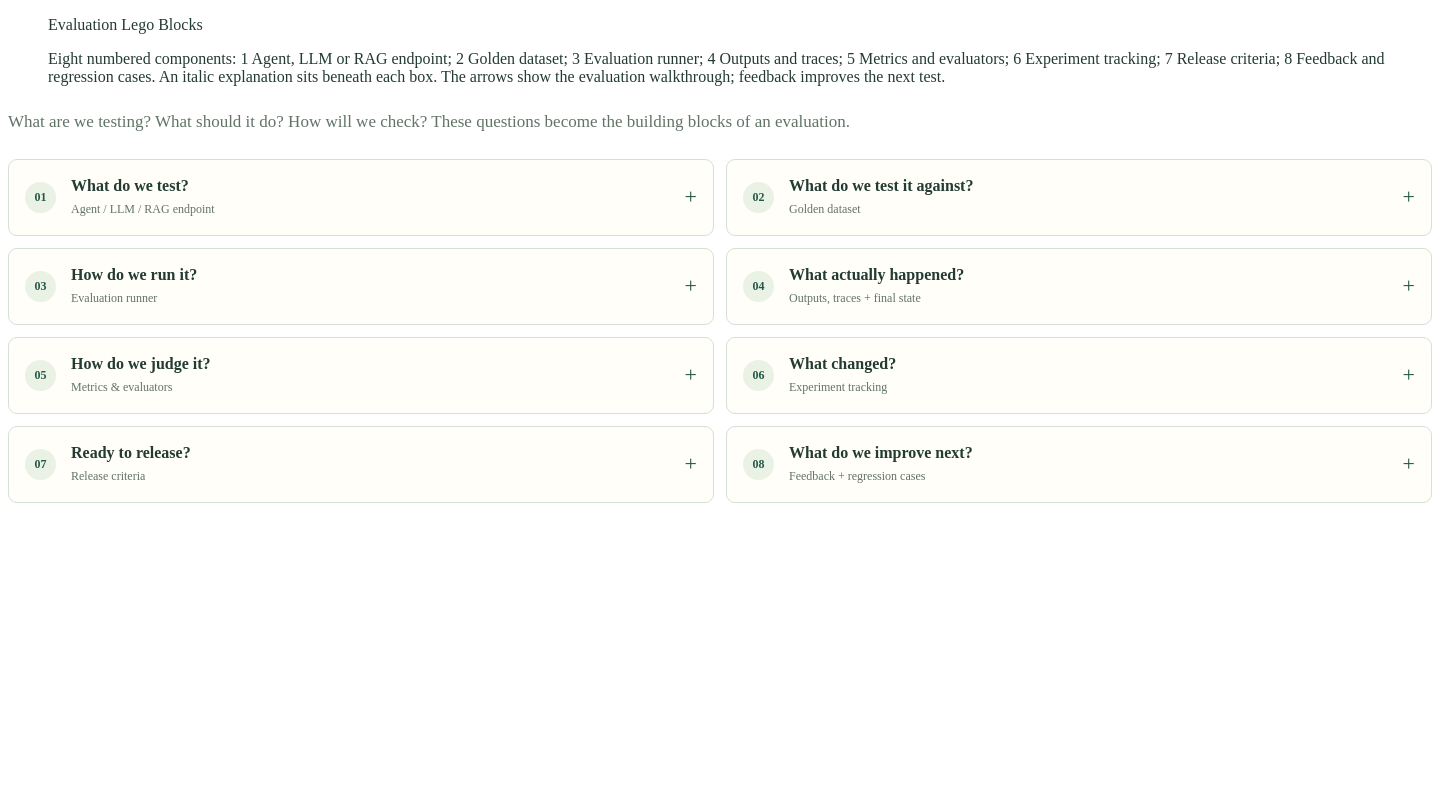
the Evaluation Lego Blocks reference › puts the visible component diagram before the introductory text and explanations
Expected: the text "Evaluation Lego Blocks" is shown, [48, 16, 203, 33]
Step 1. Click the text "What do we test?" → coordinates (130, 185), box [71, 177, 189, 194]
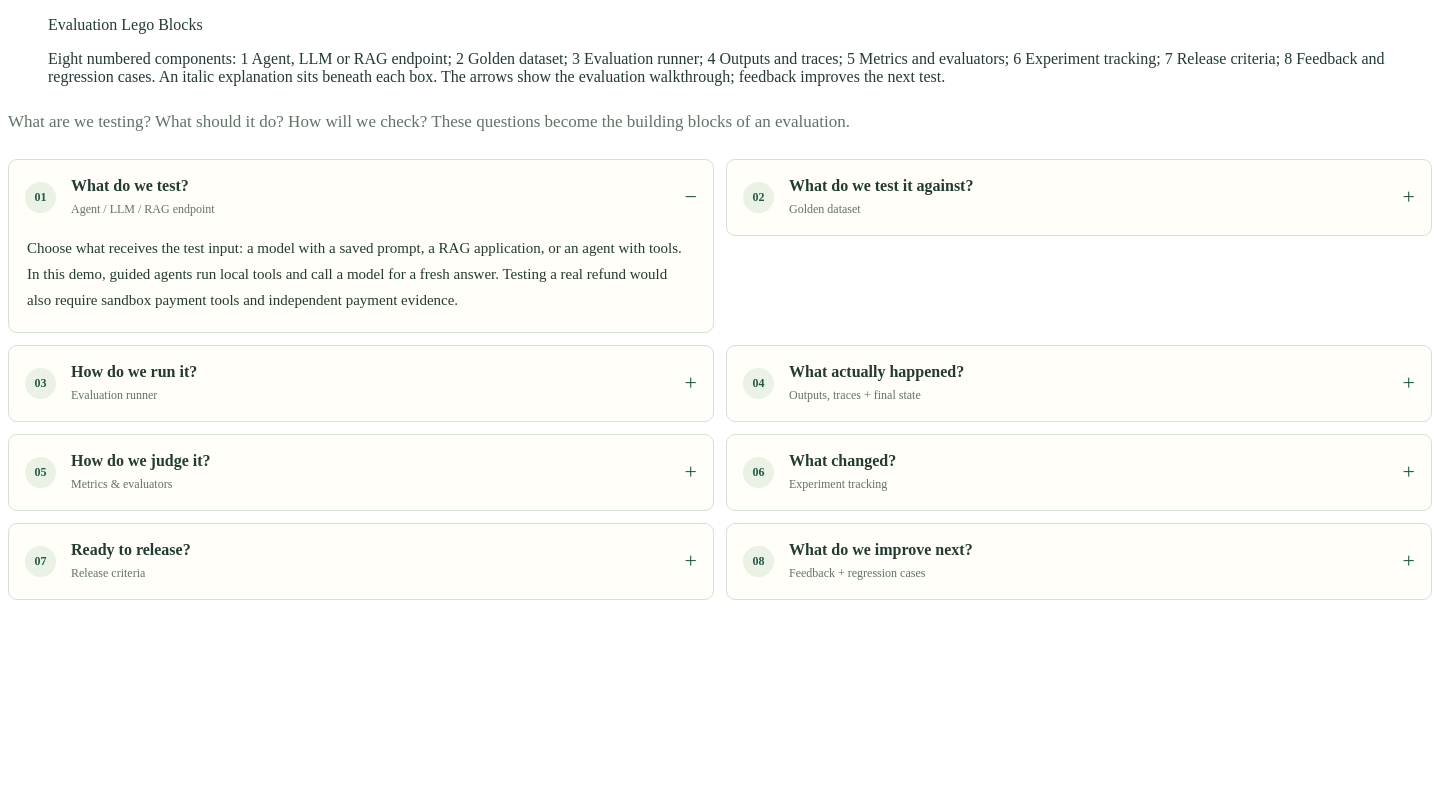
Expected: the text "Agent / LLM / RAG endpoint" is shown, [71, 200, 215, 218]
Expected: the text "What do we test?" shows "saved prompt", [27, 240, 682, 308]
